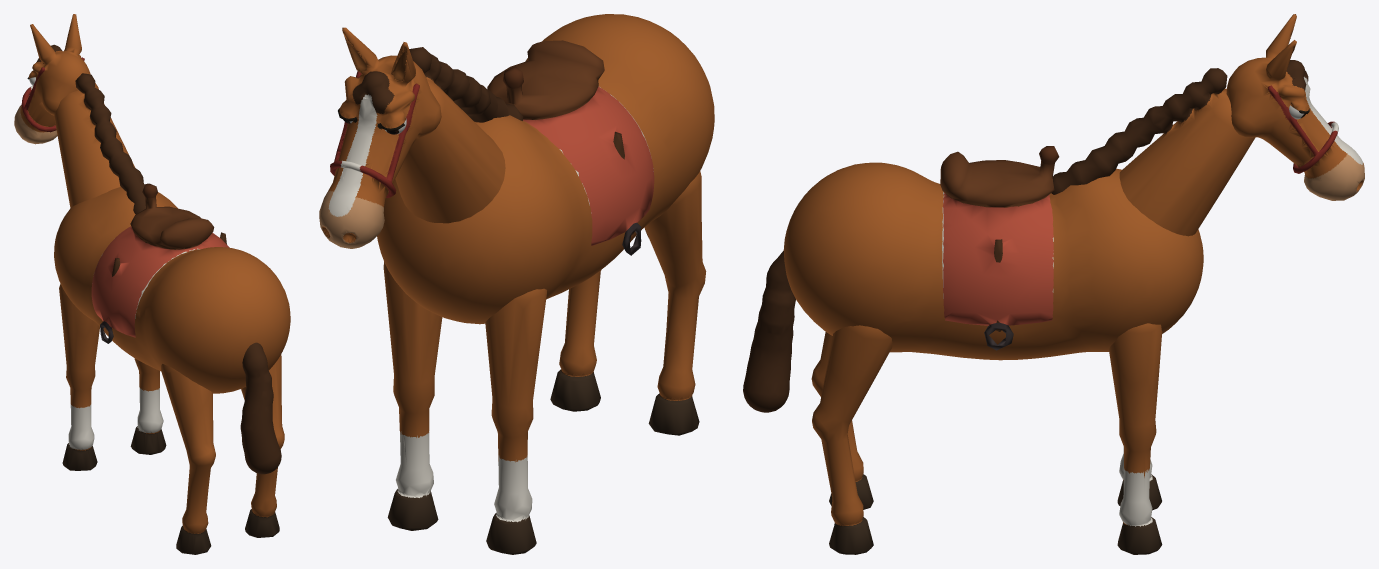
The model's file is kanel.glb.
3 renders of one model, left to right at view 1: azimuth 30°, elevation 25°; view 2: azimuth 150°, elevation 25°; view 3: azimuth 270°, elevation 25°, orthographic. The views are drawn at different scales.
Parts seen in each view (by area): view 1: body_lod0, saddle_lod0, neck_lod0, leg_2_lod0, head_lod0, leg_0_lod0, tail_lod0, leg_3_lod0, leg_1_lod0; view 2: body_lod0, saddle_lod0, head_lod0, neck_lod0, leg_0_lod0, leg_1_lod0, leg_2_lod0, leg_3_lod0; view 3: body_lod0, saddle_lod0, neck_lod0, head_lod0, leg_3_lod0, leg_1_lod0, tail_lod0, leg_2_lod0.
Part boxes in pixels (bbox=[...]): body_lod0: bbox=[54, 187, 290, 393]; saddle_lod0: bbox=[91, 183, 229, 343]; neck_lod0: bbox=[54, 73, 145, 214]; leg_2_lod0: bbox=[161, 364, 215, 554]; head_lod0: bbox=[14, 14, 98, 144]; leg_0_lod0: bbox=[59, 284, 99, 470]; tail_lod0: bbox=[240, 342, 281, 474]; leg_3_lod0: bbox=[241, 354, 284, 537]; leg_1_lod0: bbox=[130, 358, 166, 454]; body_lod0: bbox=[377, 14, 714, 324]; saddle_lod0: bbox=[487, 40, 654, 255]; head_lod0: bbox=[319, 27, 441, 248]; neck_lod0: bbox=[395, 47, 523, 223]; leg_0_lod0: bbox=[485, 288, 546, 554]; leg_1_lod0: bbox=[383, 262, 442, 530]; leg_2_lod0: bbox=[644, 171, 706, 435]; leg_3_lod0: bbox=[550, 270, 601, 411]; body_lod0: bbox=[783, 162, 1203, 360]; saddle_lod0: bbox=[940, 146, 1059, 350]; neck_lod0: bbox=[1051, 68, 1255, 236]; head_lod0: bbox=[1226, 14, 1364, 200]; leg_3_lod0: bbox=[812, 325, 892, 554]; leg_1_lod0: bbox=[1109, 323, 1162, 554]; tail_lod0: bbox=[743, 251, 795, 412]; leg_2_lod0: bbox=[811, 332, 873, 509].
Size of what is drawn, in the model's own units: 0.9928 by 2.84 by 3.21.
